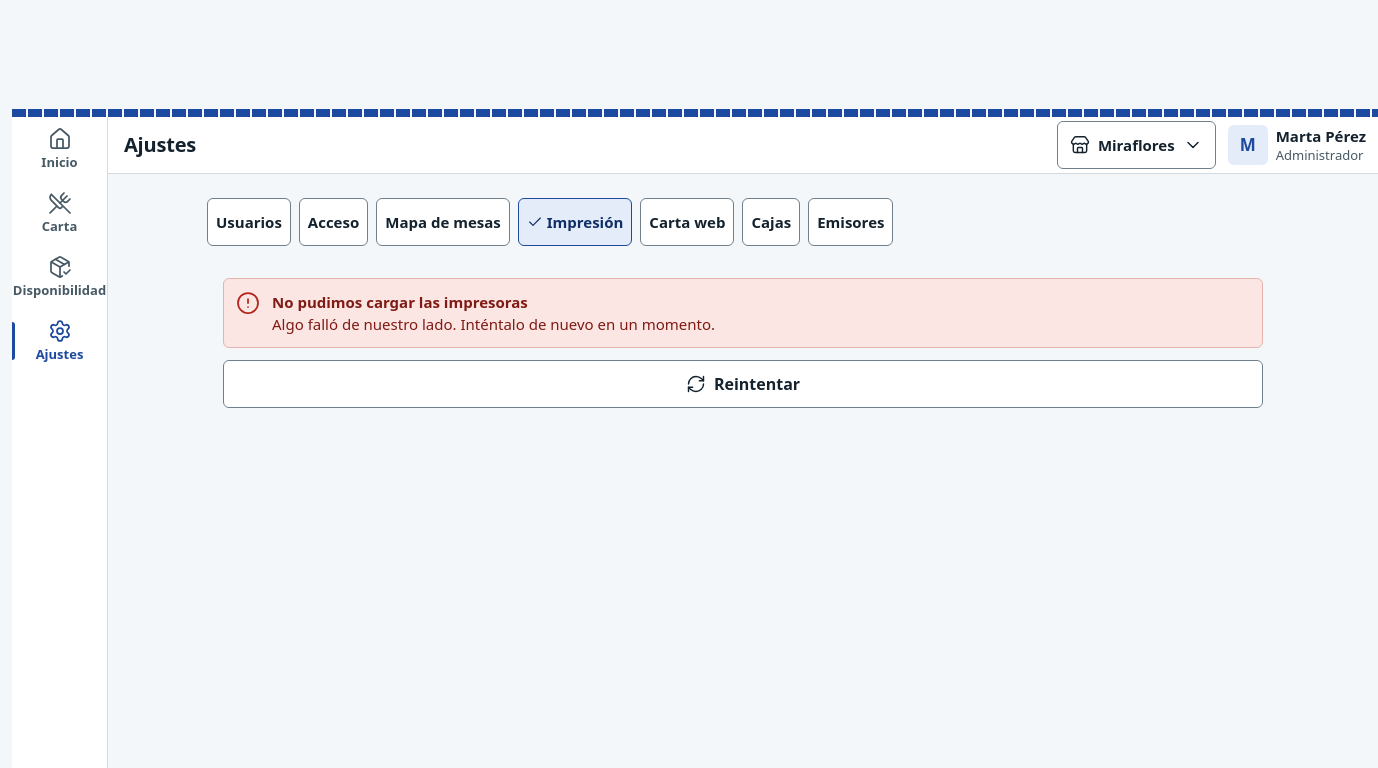
Ajustes › Impresión: ver (criterio 136) › si no puede cargar las impresoras, dice el problema y deja reintentar
The width and height of the screenshot is (1378, 768).
(page scrolled)
Check: the text "No pudimos cargar las impresoras" is shown, box [272, 292, 528, 312]
Click the button "Reintentar" at (743, 384), box [223, 360, 1263, 408]
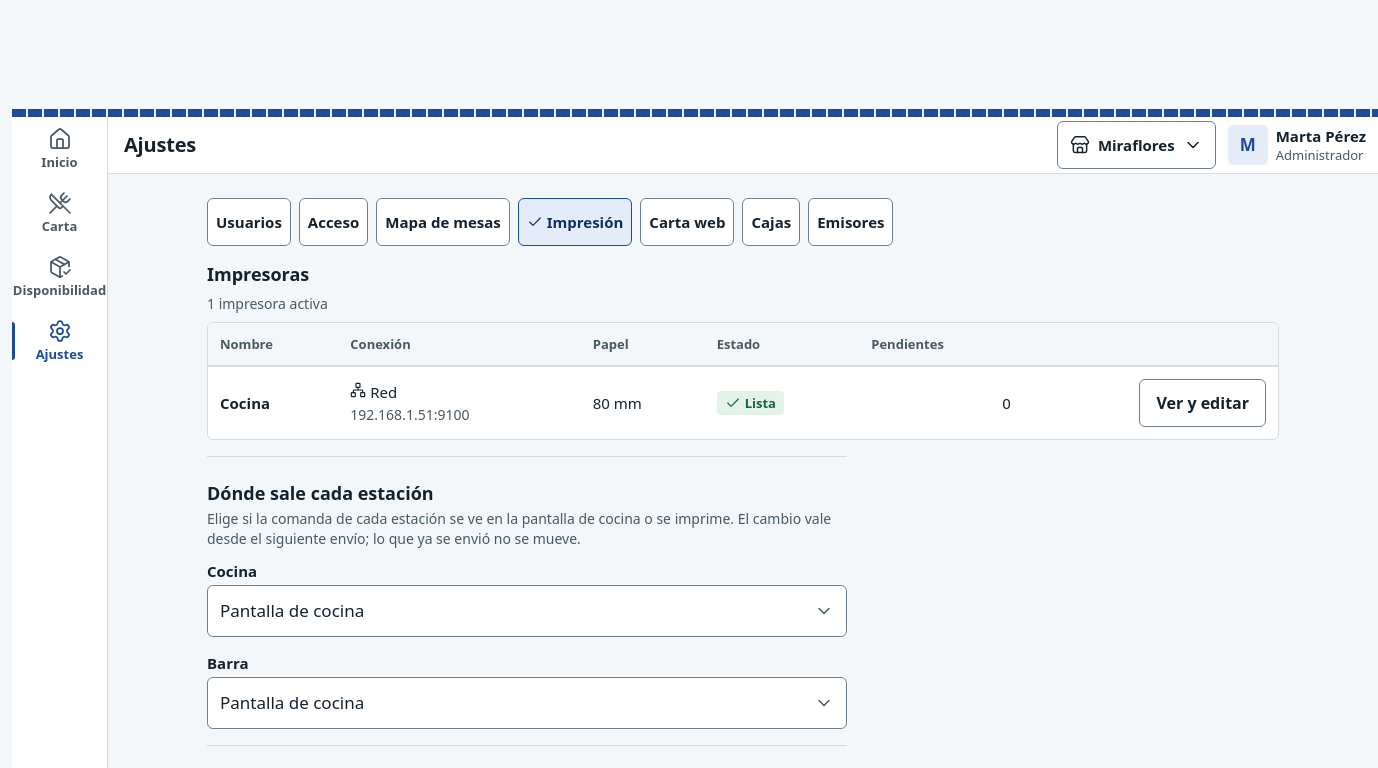
Check: the heading "Impresoras" is shown, box [207, 262, 309, 286]
Check: the button named "Cocina" is shown, box [1139, 379, 1266, 427]
